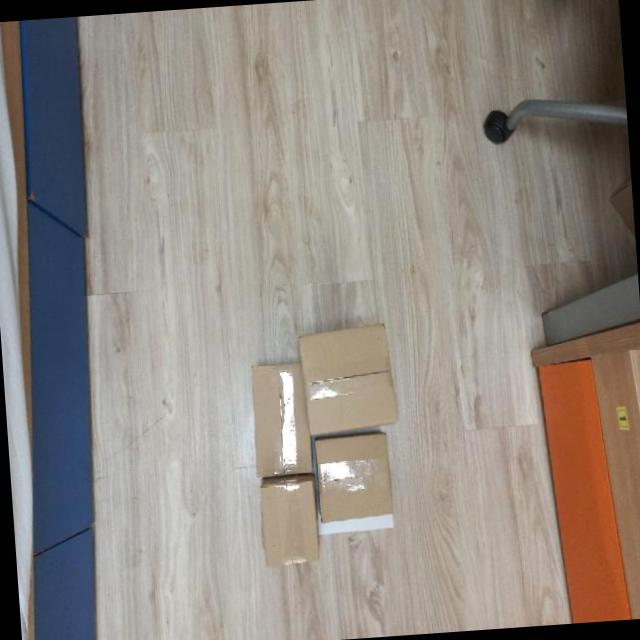box: (292, 318, 403, 437), (310, 428, 396, 526), (247, 360, 316, 480), (254, 472, 324, 570)
